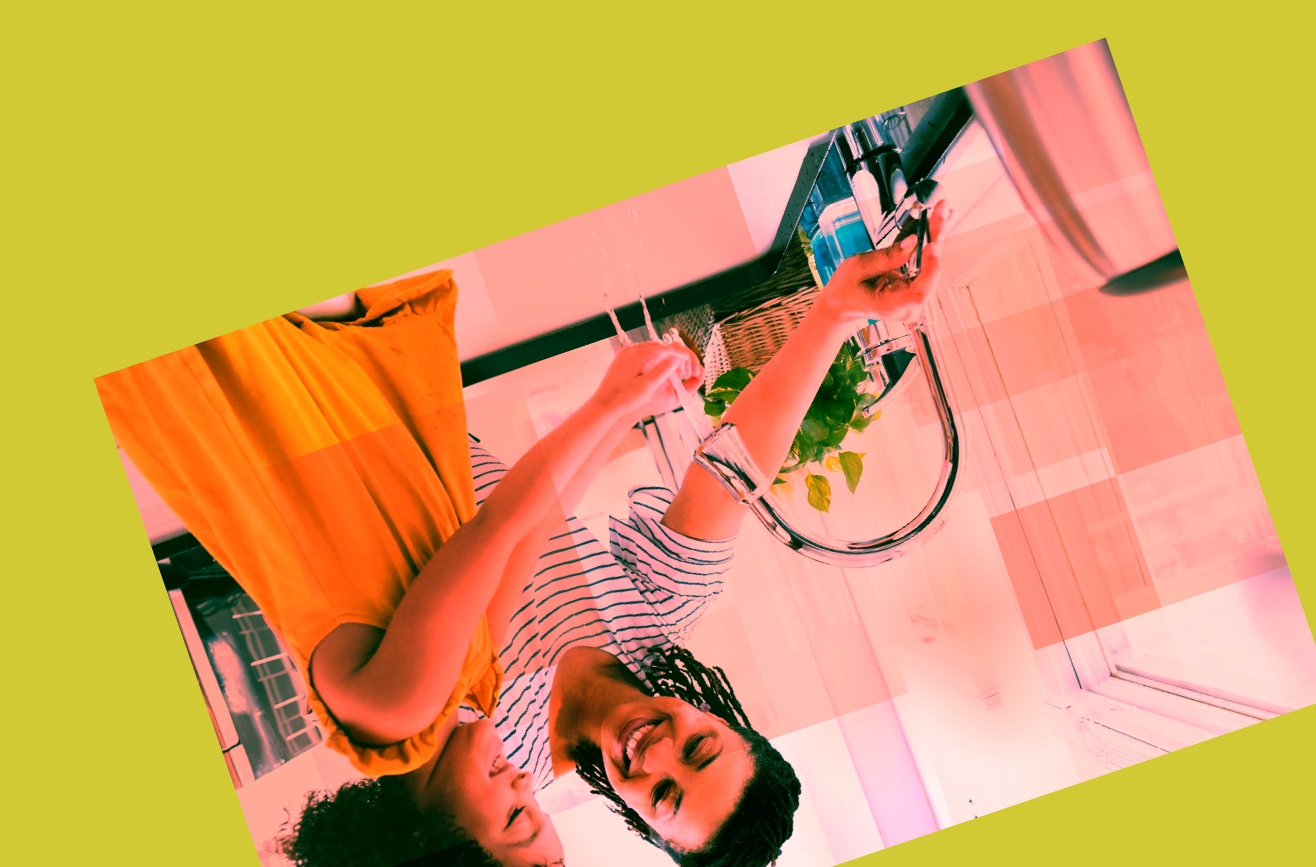washing hand: (567, 121, 1072, 669)
